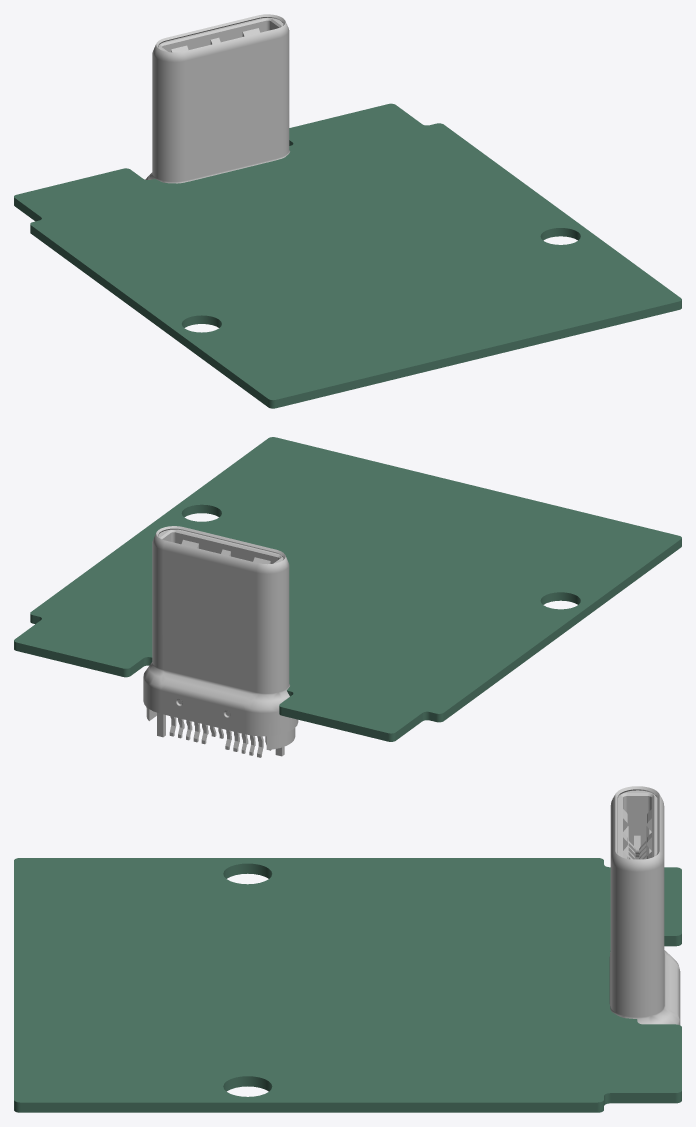
The model's file is framework-usbc.glb.
3 views of the same model, one above another, from view 1: azimuth 30°, elevation 25°; view 2: azimuth 150°, elevation 25°; view 3: azimuth 270°, elevation 25° (orthographic). The views are drawn at different scales.
Visible parts, largest first — view 1: =>[0:1:1:3], =>[0:1:1:1]; view 2: =>[0:1:1:3], =>[0:1:1:1]; view 3: =>[0:1:1:3], =>[0:1:1:1].
Boxes of the visible parts, left/top/right/bottom form: =>[0:1:1:3]: left=14, top=103, right=681, bottom=408; =>[0:1:1:1]: left=145, top=14, right=290, bottom=183; =>[0:1:1:3]: left=14, top=437, right=681, bottom=741; =>[0:1:1:1]: left=143, top=526, right=298, bottom=757; =>[0:1:1:3]: left=14, top=858, right=681, bottom=1112; =>[0:1:1:1]: left=609, top=786, right=680, bottom=1024.
Bounding box in the file's own units: 0.026 × 0.012 × 0.03.
